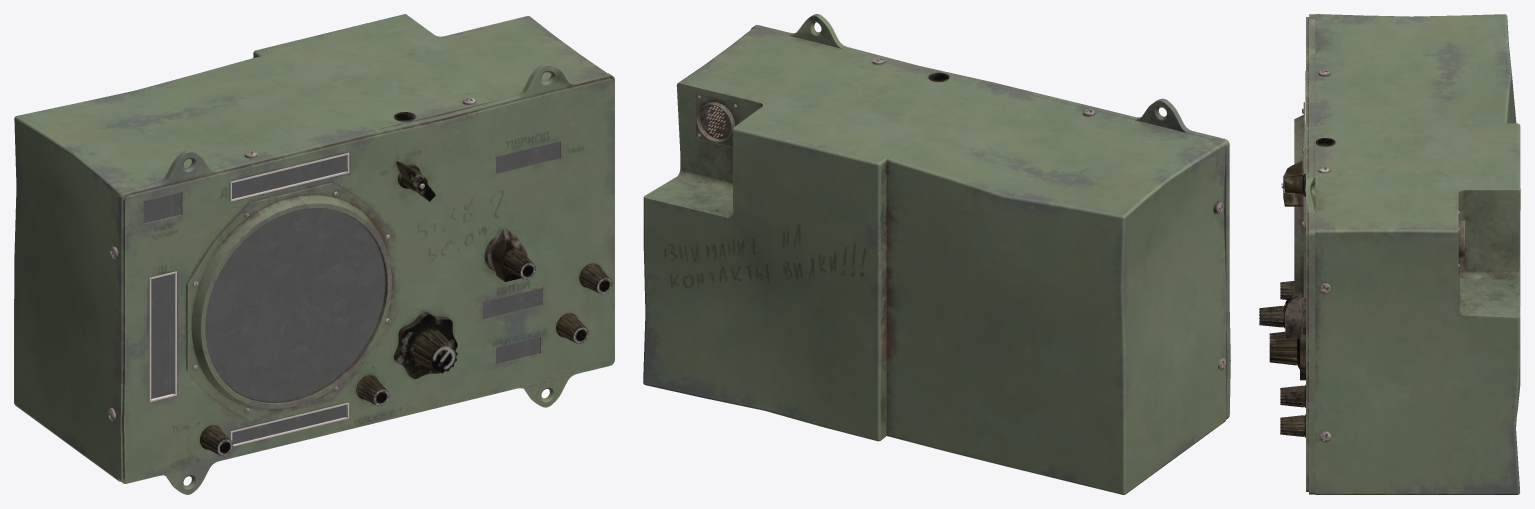
The model's file is vintage_spacecraft_instrument.glb.
3 views of the same model, side by side, from view 1: azimuth 30°, elevation 25°; view 2: azimuth 150°, elevation 25°; view 3: azimuth 270°, elevation 25° (orthographic). The views are drawn at different scales.
Visible parts, largest first — view 1: vintage_spacecraft_instrument_lod0; view 2: vintage_spacecraft_instrument_lod0; view 3: vintage_spacecraft_instrument_lod0.
Part boxes in pixels (x1=…): vintage_spacecraft_instrument_lod0: x1=14, y1=14, x2=614, y2=494; vintage_spacecraft_instrument_lod0: x1=643, y1=14, x2=1230, y2=494; vintage_spacecraft_instrument_lod0: x1=1259, y1=14, x2=1520, y2=494.
Bounding box in the file's own units: 0.4103 × 0.2693 × 0.2044.
Materials: 2 (2 with a texture image).
